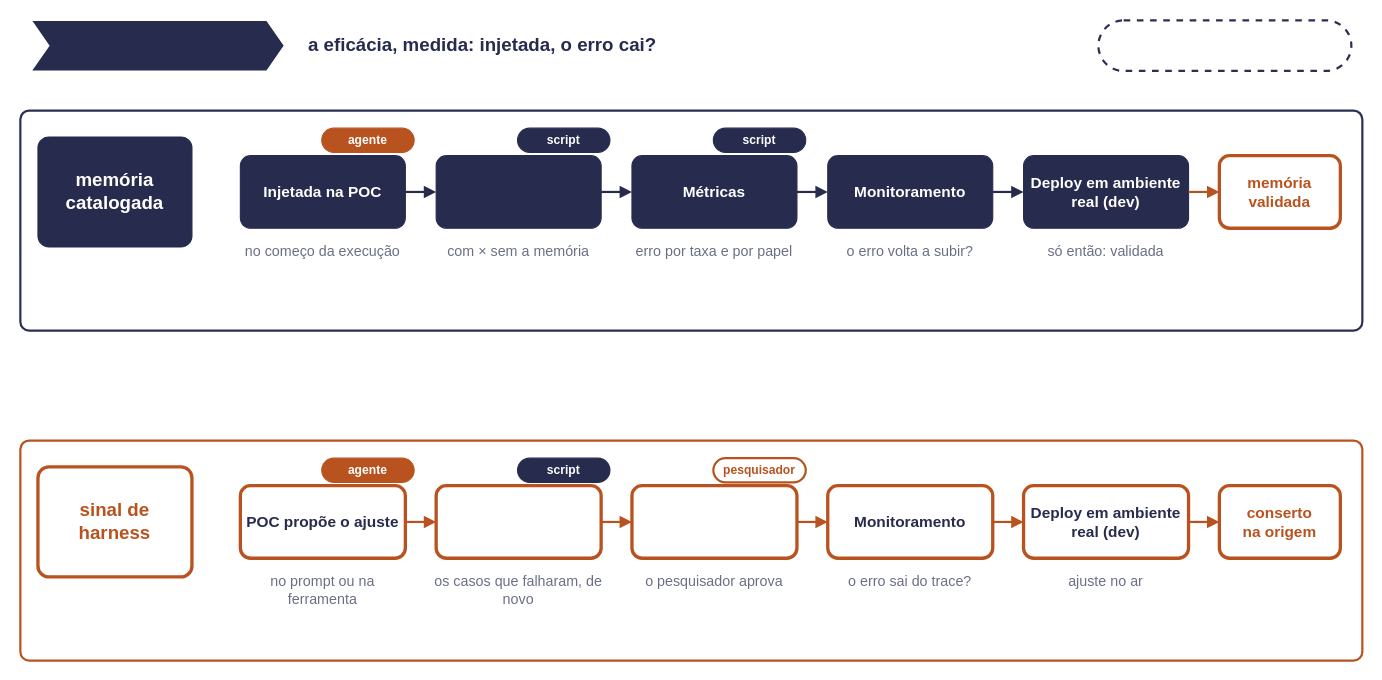
Image size: 1382x680. Some labels were removed from this diagram. The shapes that lost their labels are listed below. From the top down, each one's centre as x and y in pixels, then its label:
point (157, 45): 4 · validada
point (1224, 45): a executar (POCs)
point (518, 191): Teste A/B
point (518, 521): Evals (replay)
point (714, 521): HITL
